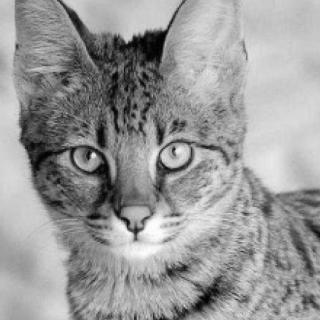cat: (7, 0, 252, 265)
nose: (108, 176, 167, 246)
